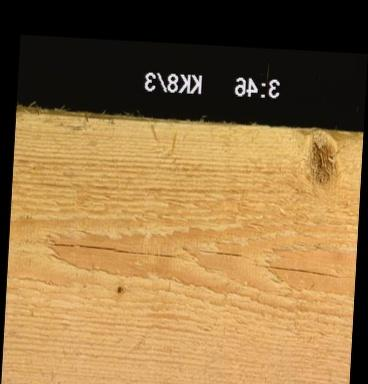small_knot: (113, 282, 124, 294)
sound_knot: (303, 128, 343, 189)
split: (51, 242, 177, 254), (254, 263, 342, 276), (195, 248, 253, 255)
wave: (14, 109, 362, 130)
